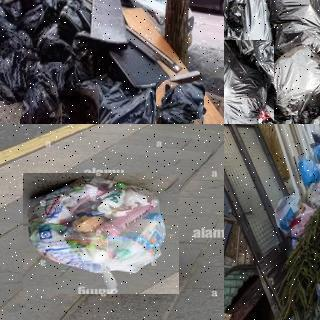Garbage: (23, 173, 179, 294), (224, 40, 274, 124), (269, 41, 320, 113), (265, 0, 320, 58), (21, 60, 64, 124), (0, 46, 42, 103), (155, 81, 204, 124), (47, 89, 99, 124), (224, 0, 243, 77), (298, 155, 320, 186), (311, 137, 320, 177)
